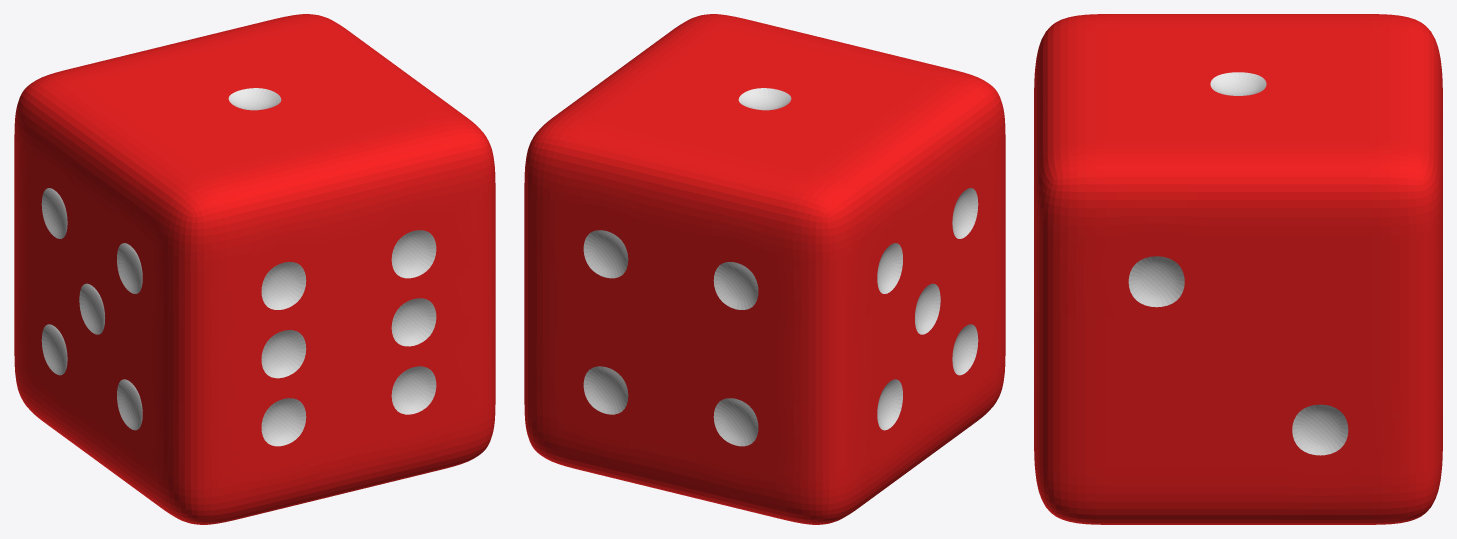
Rendered from dice.glb.
3 renders of one model, left to right at view 1: azimuth 30°, elevation 25°; view 2: azimuth 150°, elevation 25°; view 3: azimuth 270°, elevation 25°, orthographic. The views are drawn at different scales.
Parts seen in each view (by area): view 1: Cube, Cube.001; view 2: Cube, Cube.001; view 3: Cube, Cube.001.
Boxes of the visible parts, x1=… form: Cube: x1=14, y1=14, x2=495, y2=524; Cube.001: x1=41, y1=88, x2=436, y2=446; Cube: x1=524, y1=14, x2=1005, y2=524; Cube.001: x1=583, y1=88, x2=978, y2=446; Cube: x1=1034, y1=14, x2=1442, y2=524; Cube.001: x1=1128, y1=72, x2=1348, y2=455.
Bounding box in the file's own units: 2 × 2 × 2.
